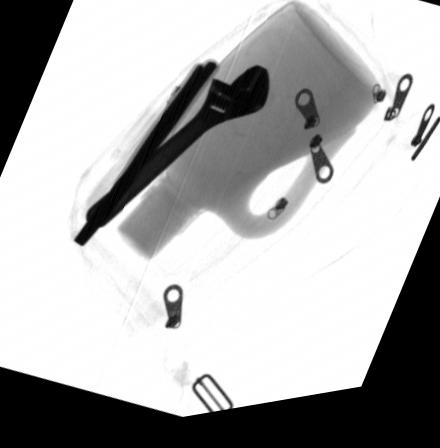Pliers: (72, 67, 217, 249)
Wrench: (86, 74, 268, 232)
